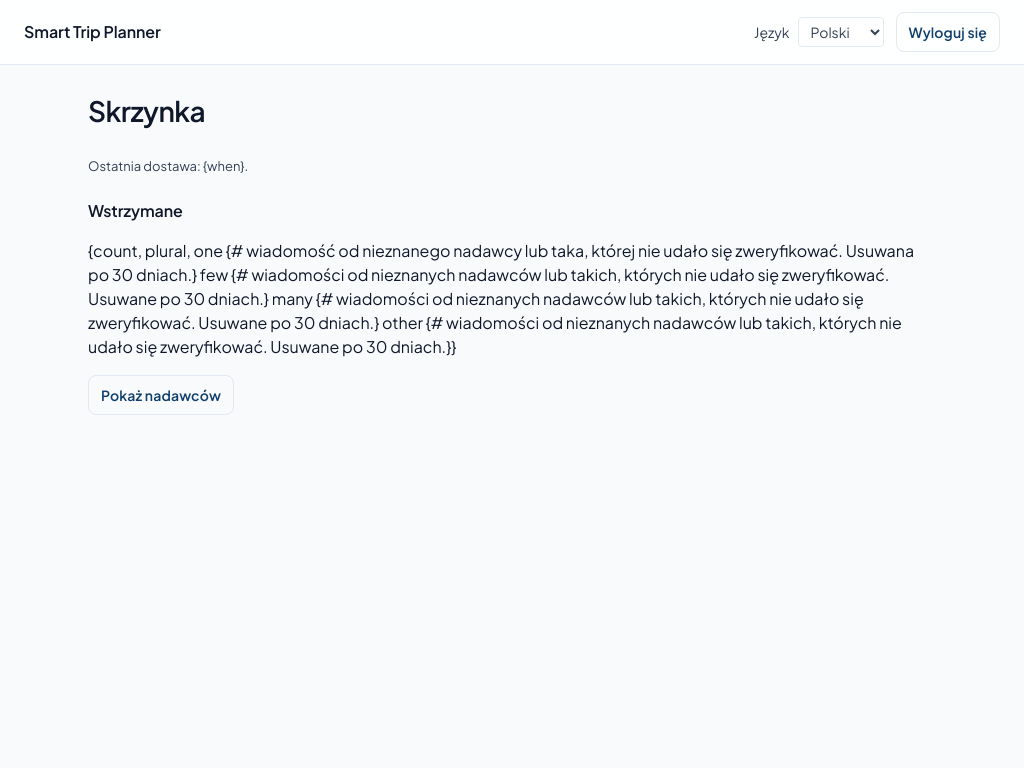
Scenario: quarantine › reveals sender and subject on Show, and nothing else
The width and height of the screenshot is (1024, 768).
Click the button "Pokaż nadawców": (161, 395) [88, 375, 234, 415]
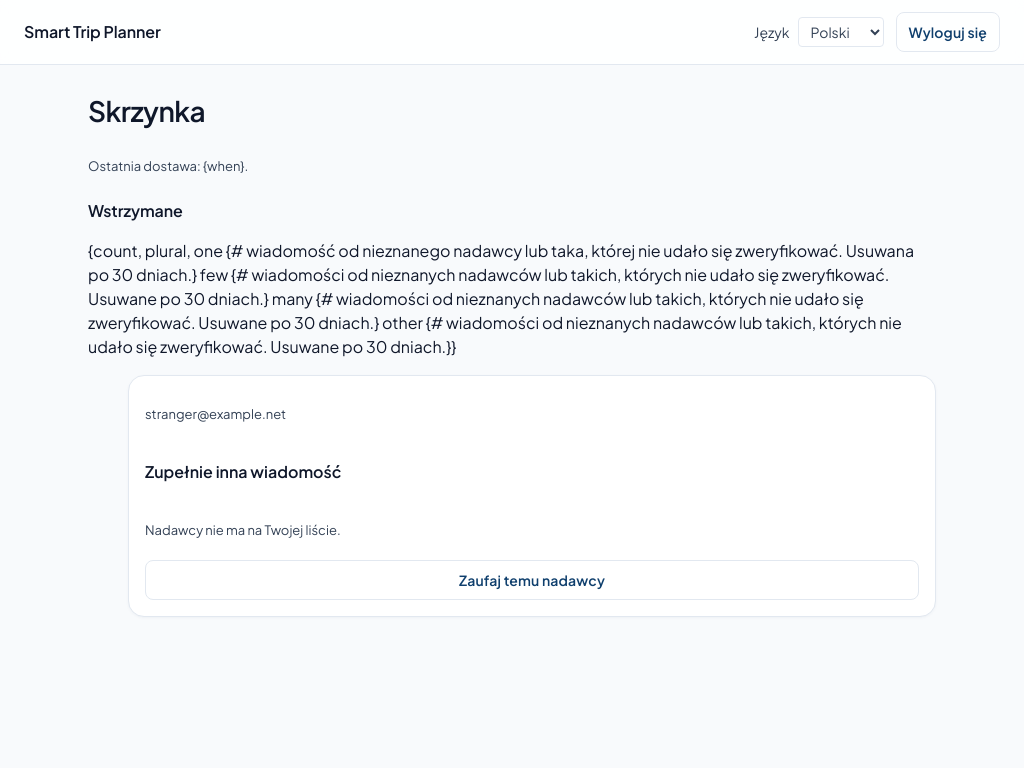
Expected: the text "stranger@example.net" is shown, [145, 406, 286, 422]
Expected: the text "Zupełnie inna wiadomość" is shown, [145, 461, 341, 482]
